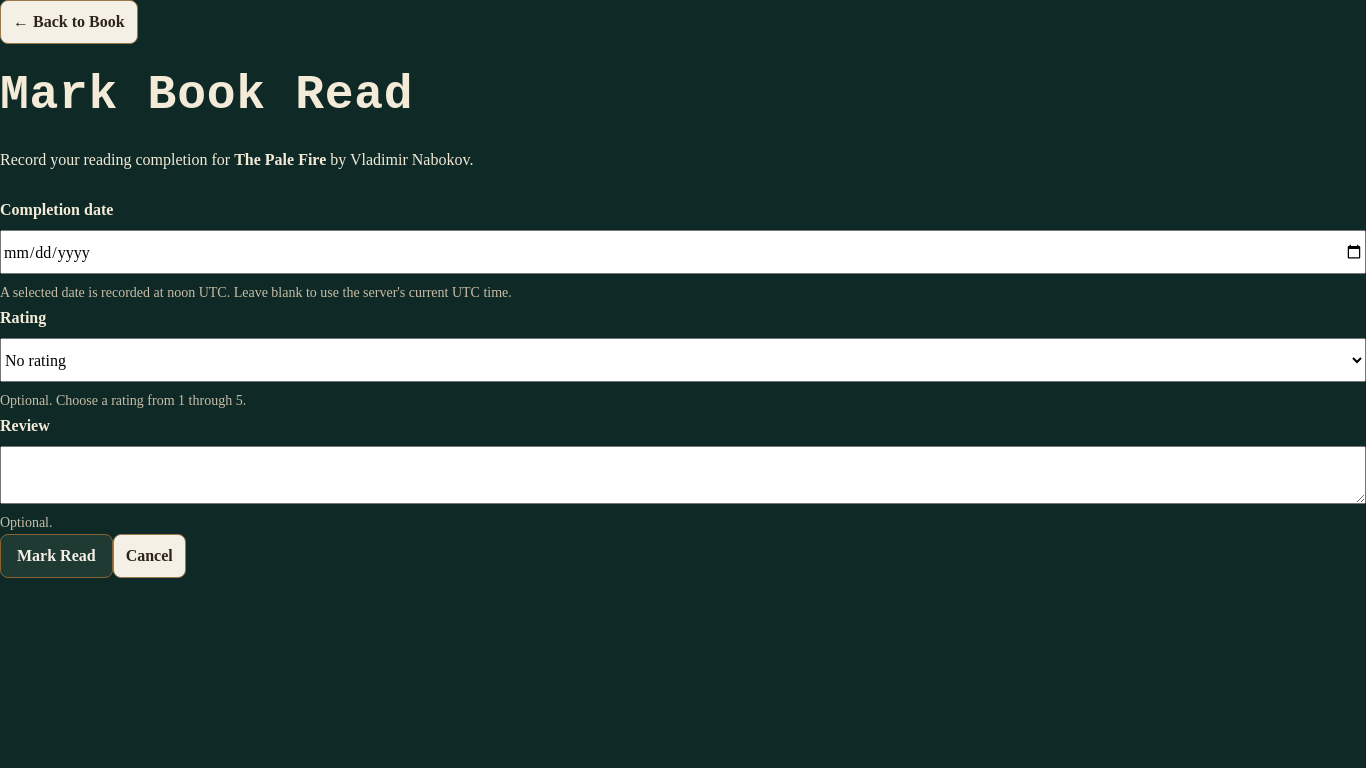
Test case: MarkReadPage › preserves input and refreshes state after a network failure
Step 1. Type "Still here after failure." into the text box labelled "Review" → (683, 475), box [0,446,1365,504]
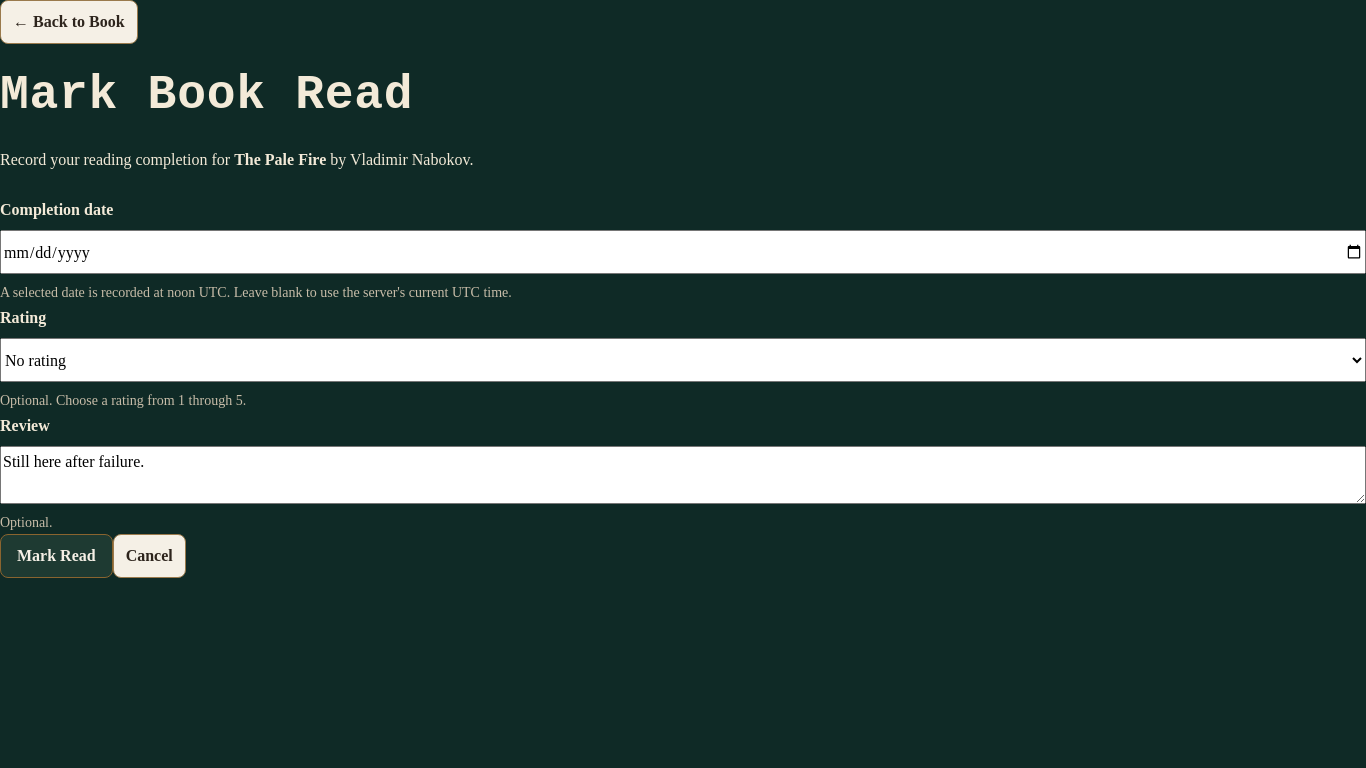
Step 2. Click the button "Mark Read" → (56, 556), box [0,534,113,578]
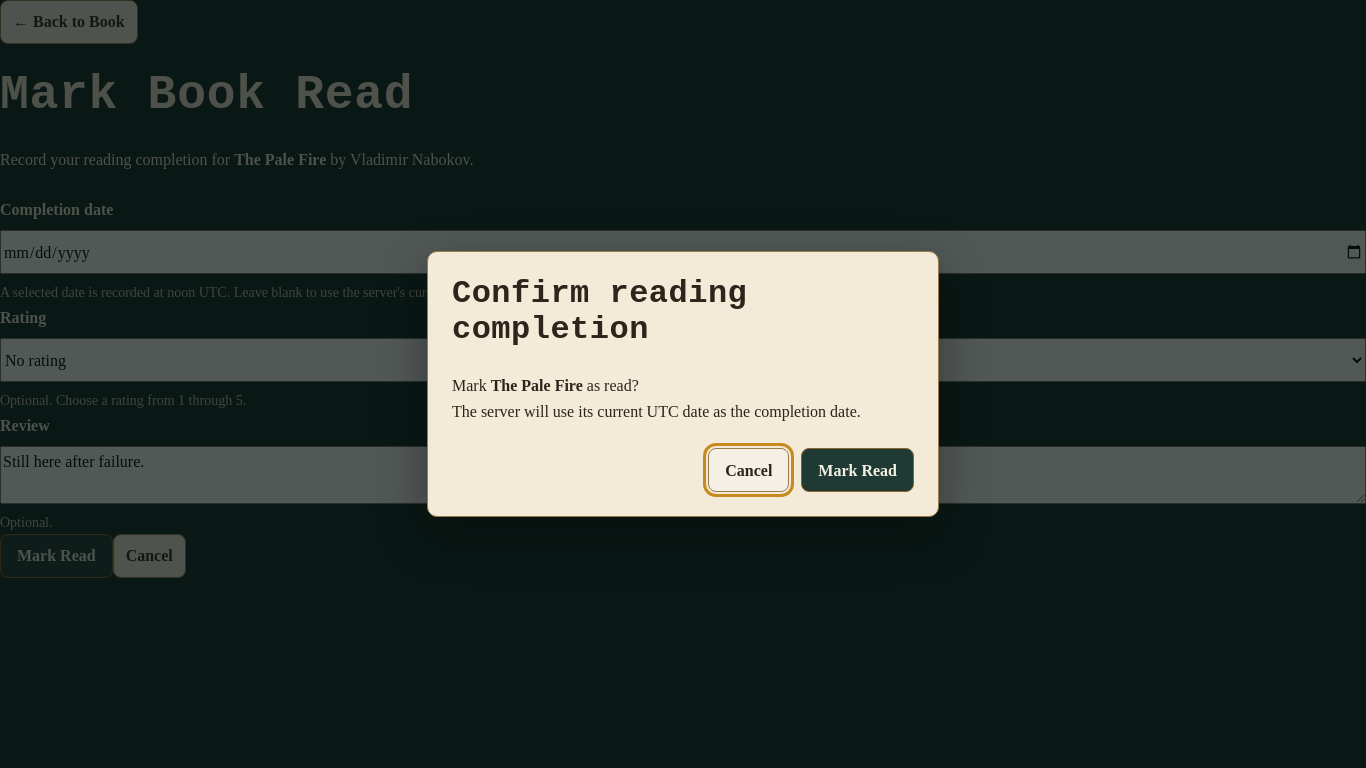
Step 3. Click the button "Mark Read" → (858, 470), box [801,448,914,492]
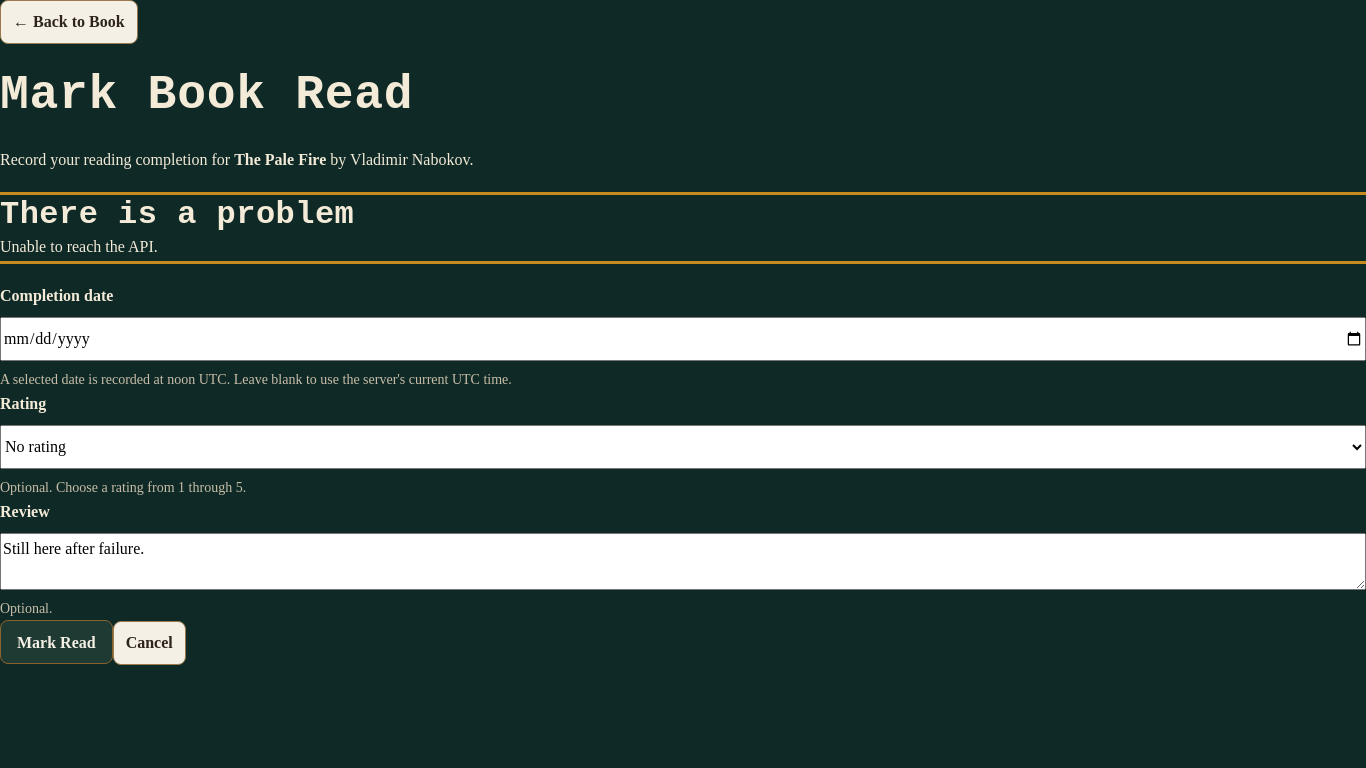
Check: the message shows "Unable to reach the API.", box [0,238,158,255]
